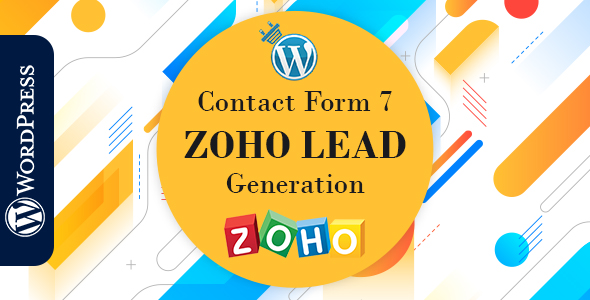zoho: (225, 208, 368, 261)
